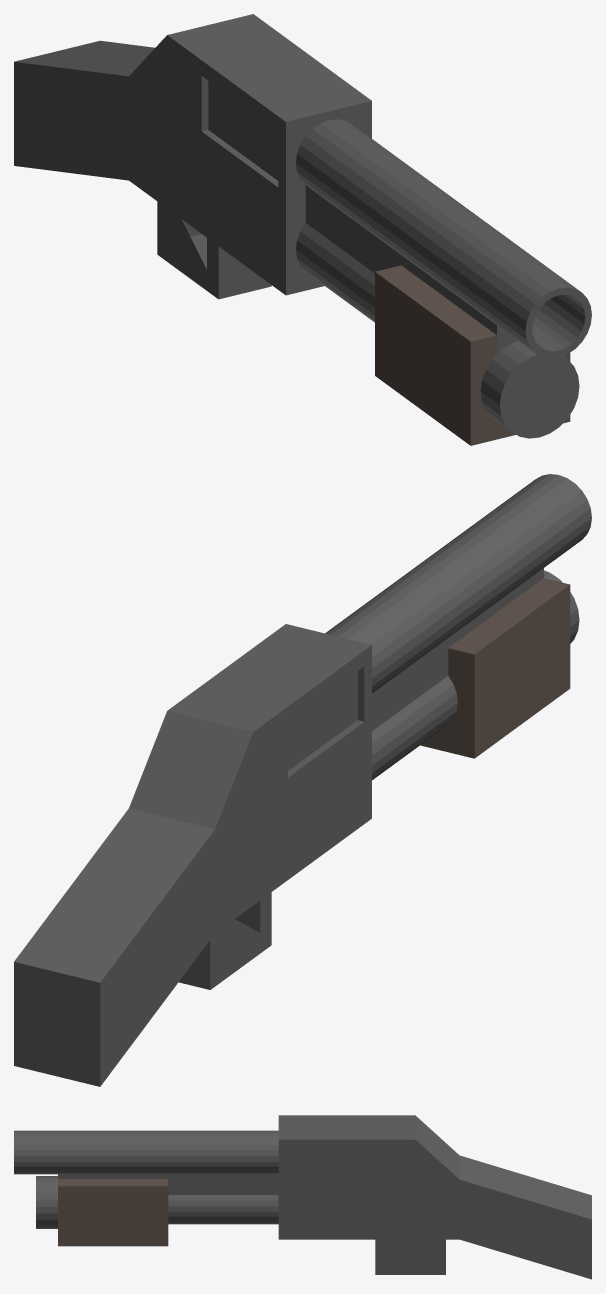
The model's file is shotgun.glb.
3 renders of one model, top to bottom at view 1: azimuth 30°, elevation 25°; view 2: azimuth 150°, elevation 25°; view 3: azimuth 270°, elevation 25°, orthographic. The views are drawn at different scales.
Visible parts, largest first — view 1: Mesh1 Group2 Group1 Model, Mesh2 Group3 Group1 Model; view 2: Mesh1 Group2 Group1 Model, Mesh2 Group3 Group1 Model; view 3: Mesh1 Group2 Group1 Model, Mesh2 Group3 Group1 Model.
Part boxes in pixels (x1,y1,x2,y2): Mesh1 Group2 Group1 Model: (14,14,591,438); Mesh2 Group3 Group1 Model: (375,265,570,445); Mesh1 Group2 Group1 Model: (14,474,591,1086); Mesh2 Group3 Group1 Model: (420,578,570,758); Mesh1 Group2 Group1 Model: (14,1115,591,1279); Mesh2 Group3 Group1 Model: (58,1179,168,1246).
Bounding box in the file's own units: 0.009 × 0.021 × 0.0786.
